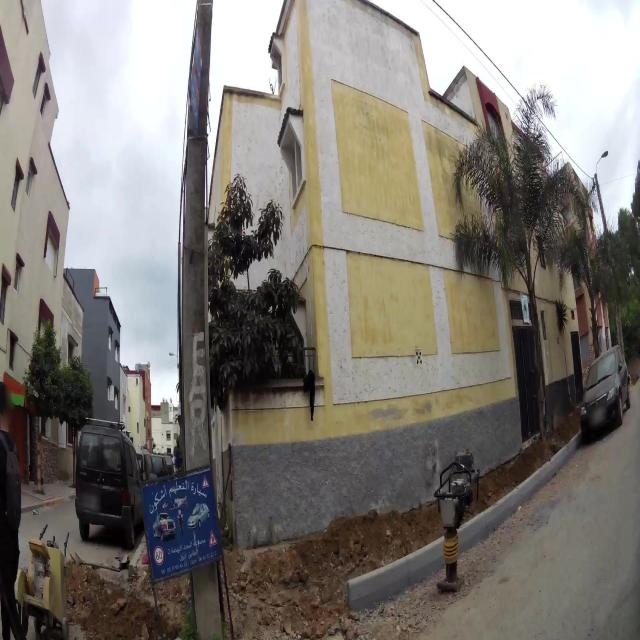car: (75, 418, 145, 548), (578, 344, 632, 444)
